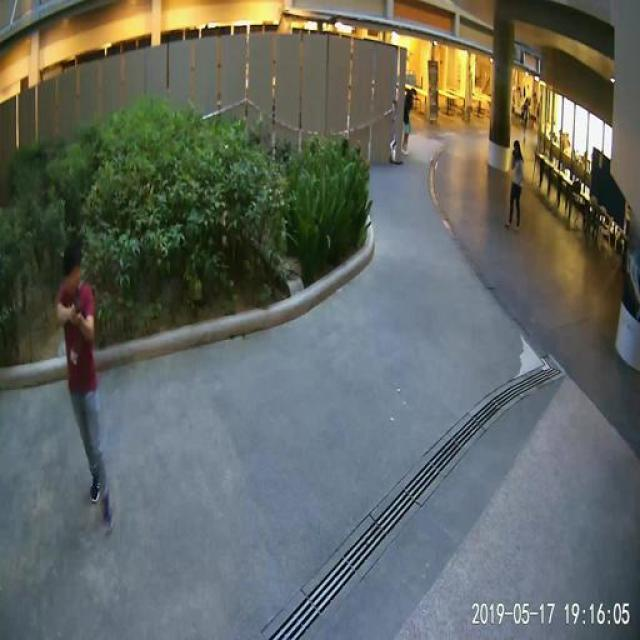Gun: (63, 296, 90, 322)
